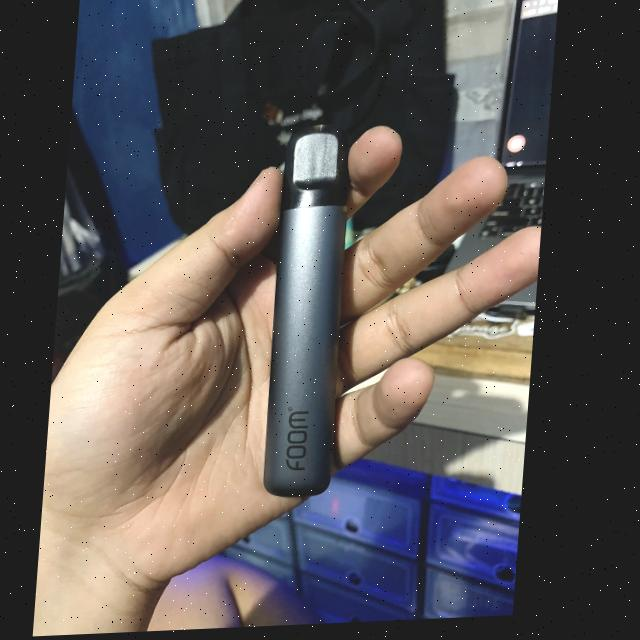vape: (267, 119, 360, 504)
